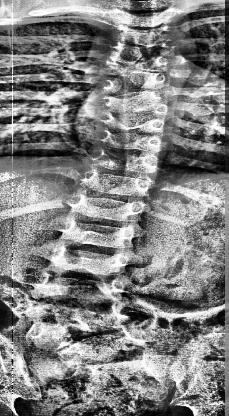Vertebrae: (28, 315, 142, 351), (28, 274, 132, 312), (37, 245, 131, 281), (50, 218, 140, 252), (97, 68, 178, 98), (66, 194, 150, 222), (92, 128, 170, 158), (84, 148, 162, 176), (77, 171, 159, 197), (97, 96, 177, 121), (104, 6, 188, 28), (96, 112, 170, 134), (107, 24, 187, 44), (102, 38, 186, 54), (97, 51, 176, 68)
